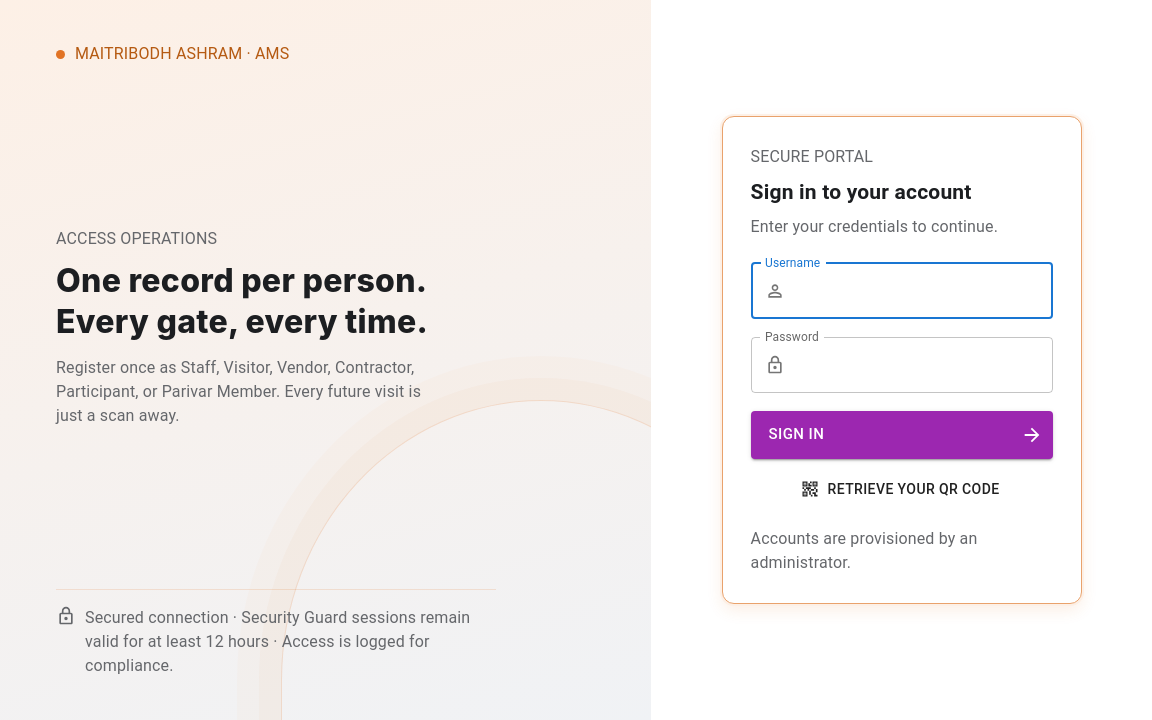
Test: shows an account deactivated message from the login API
The width and height of the screenshot is (1152, 720).
In the field labelled "Username": (923, 290) [793,262,1053,318], type "inactive.user"
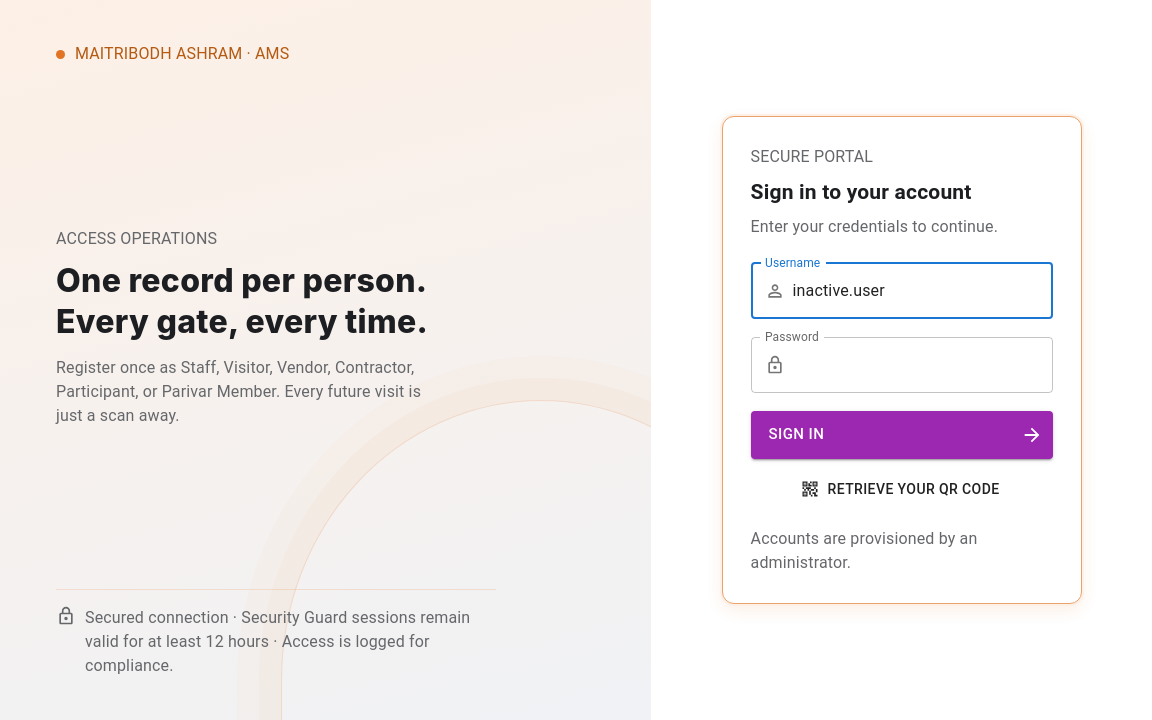
In the password field labelled "Password": (923, 364) [793,336,1053,392], type "valid-password"
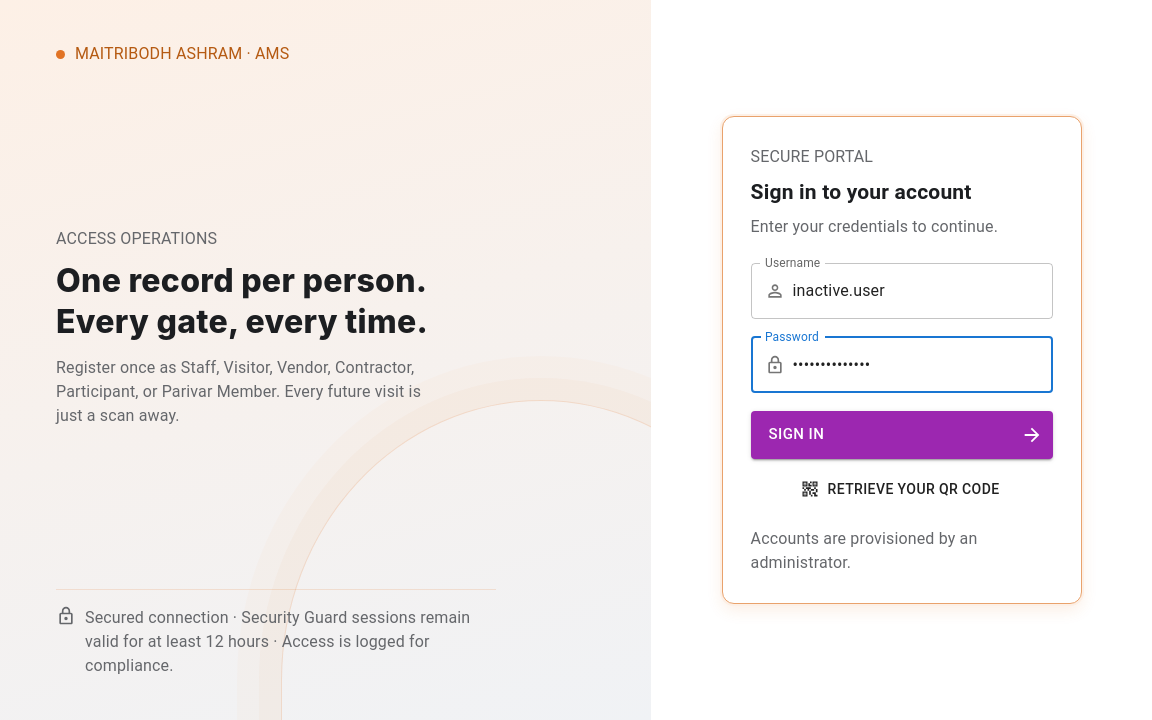
Click the button "Sign in": (796, 434) [751,410,1053,458]
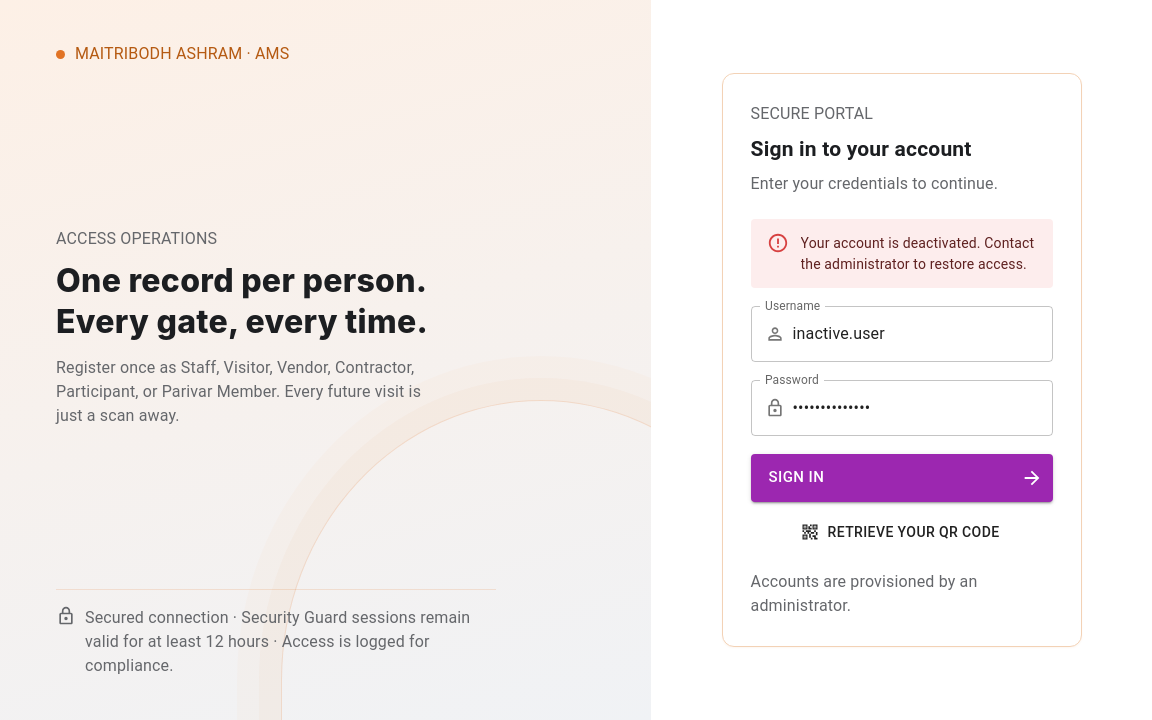
Expected: the text "Your account is deactivated. Contact the administrator to restore access." is shown, [801,226,1037,282]
